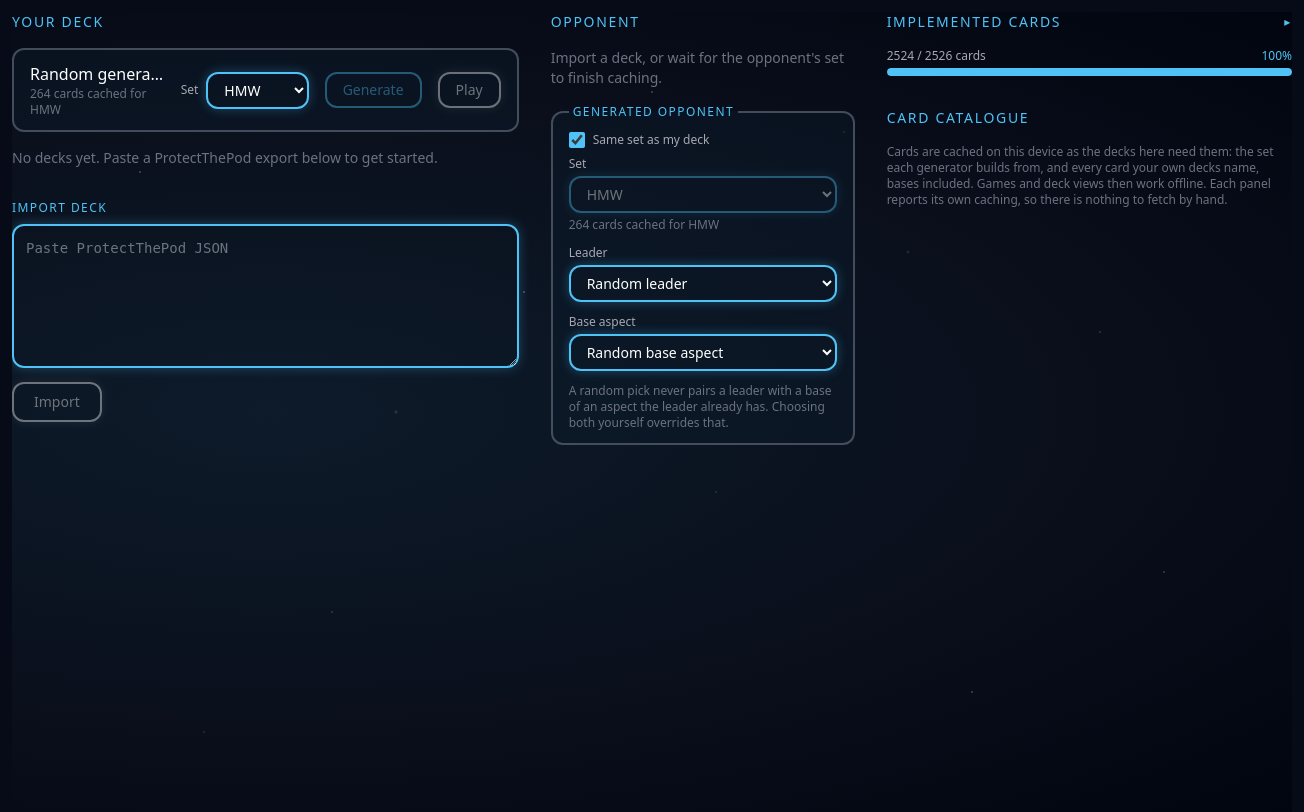
Test: DeckSelectScreen › the implemented-cards panel › shows the breakdown on one click, and hides it again on the next
Click the button "Implemented cards ▸" at [974, 22], box [887,12,1292,32]
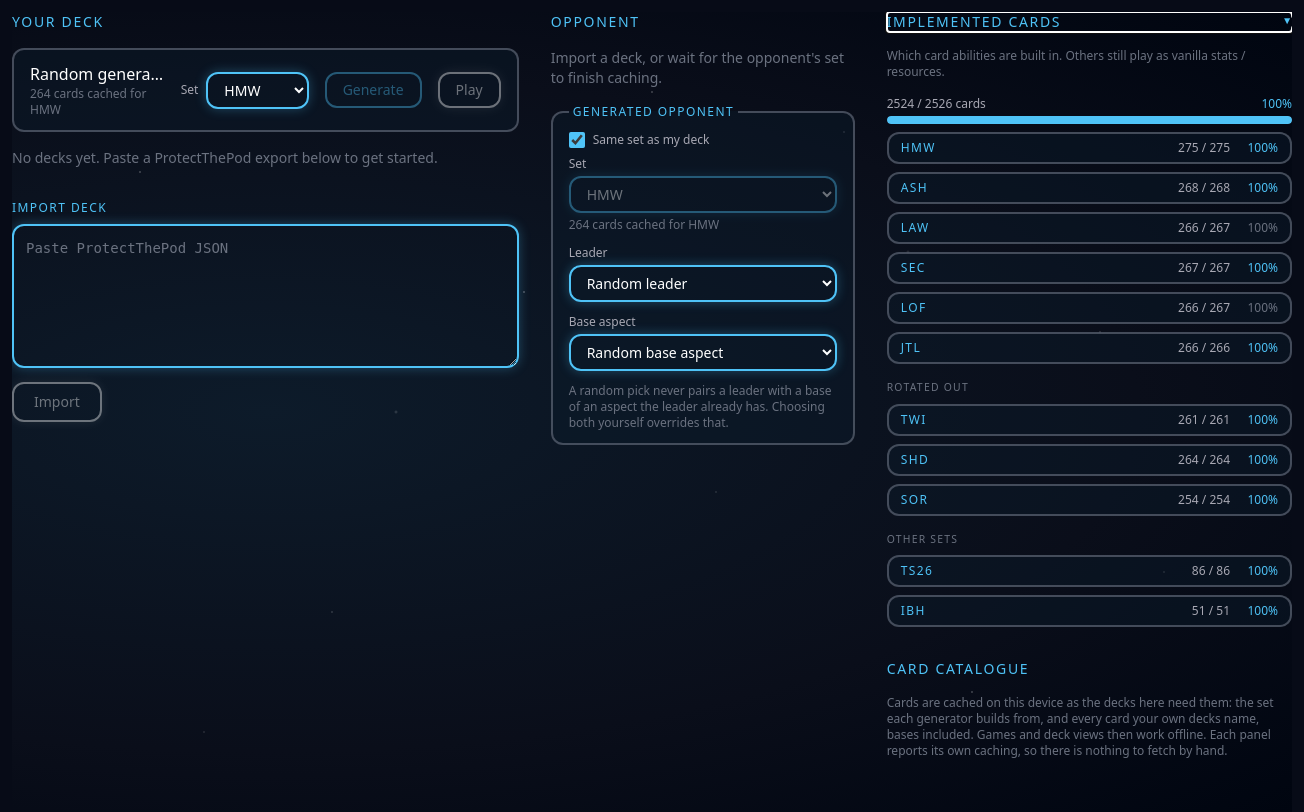
expect the button "Implemented cards ▸" is expanded: met
Click the button "Implemented cards ▸" at [974, 22], box [887,12,1292,32]
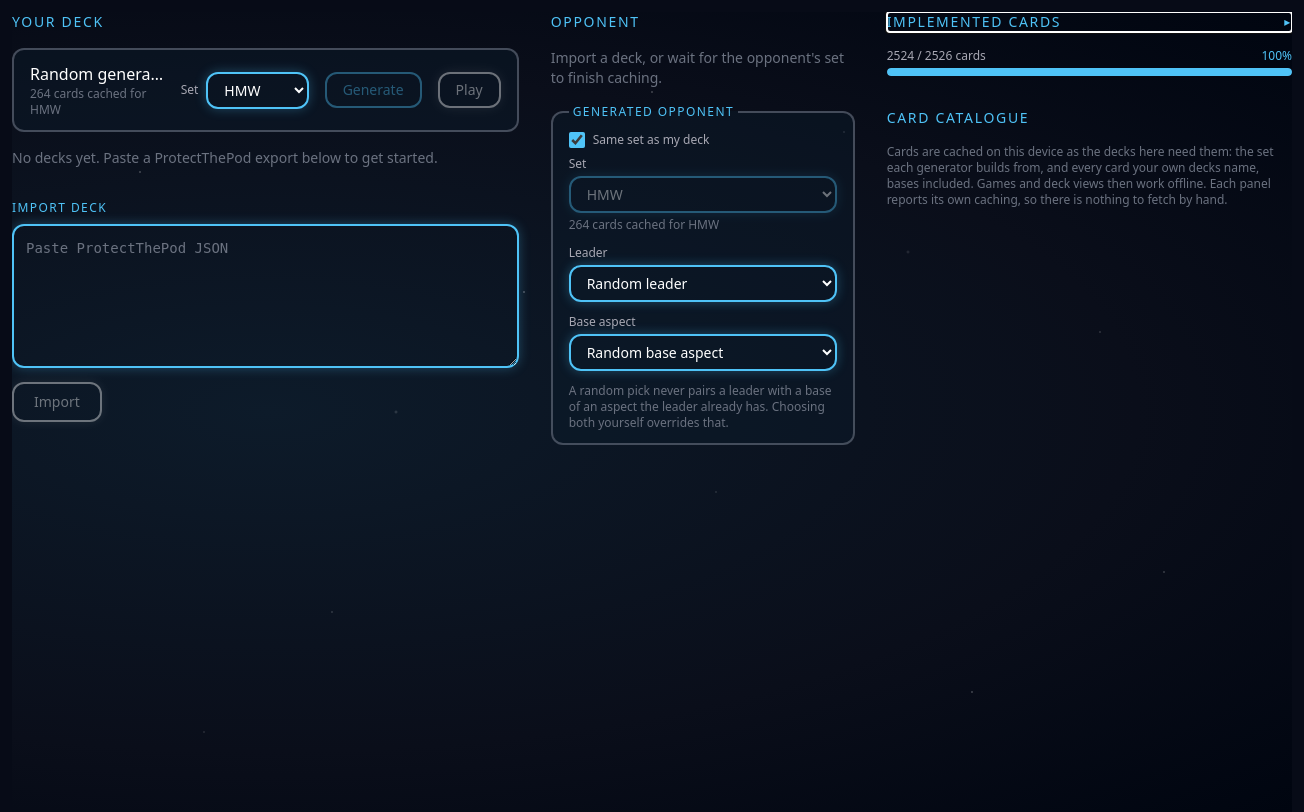
expect the button "Implemented cards ▸" is collapsed: met, box [887,12,1292,32]
expect the element with test id "set-progress" is gone: met
